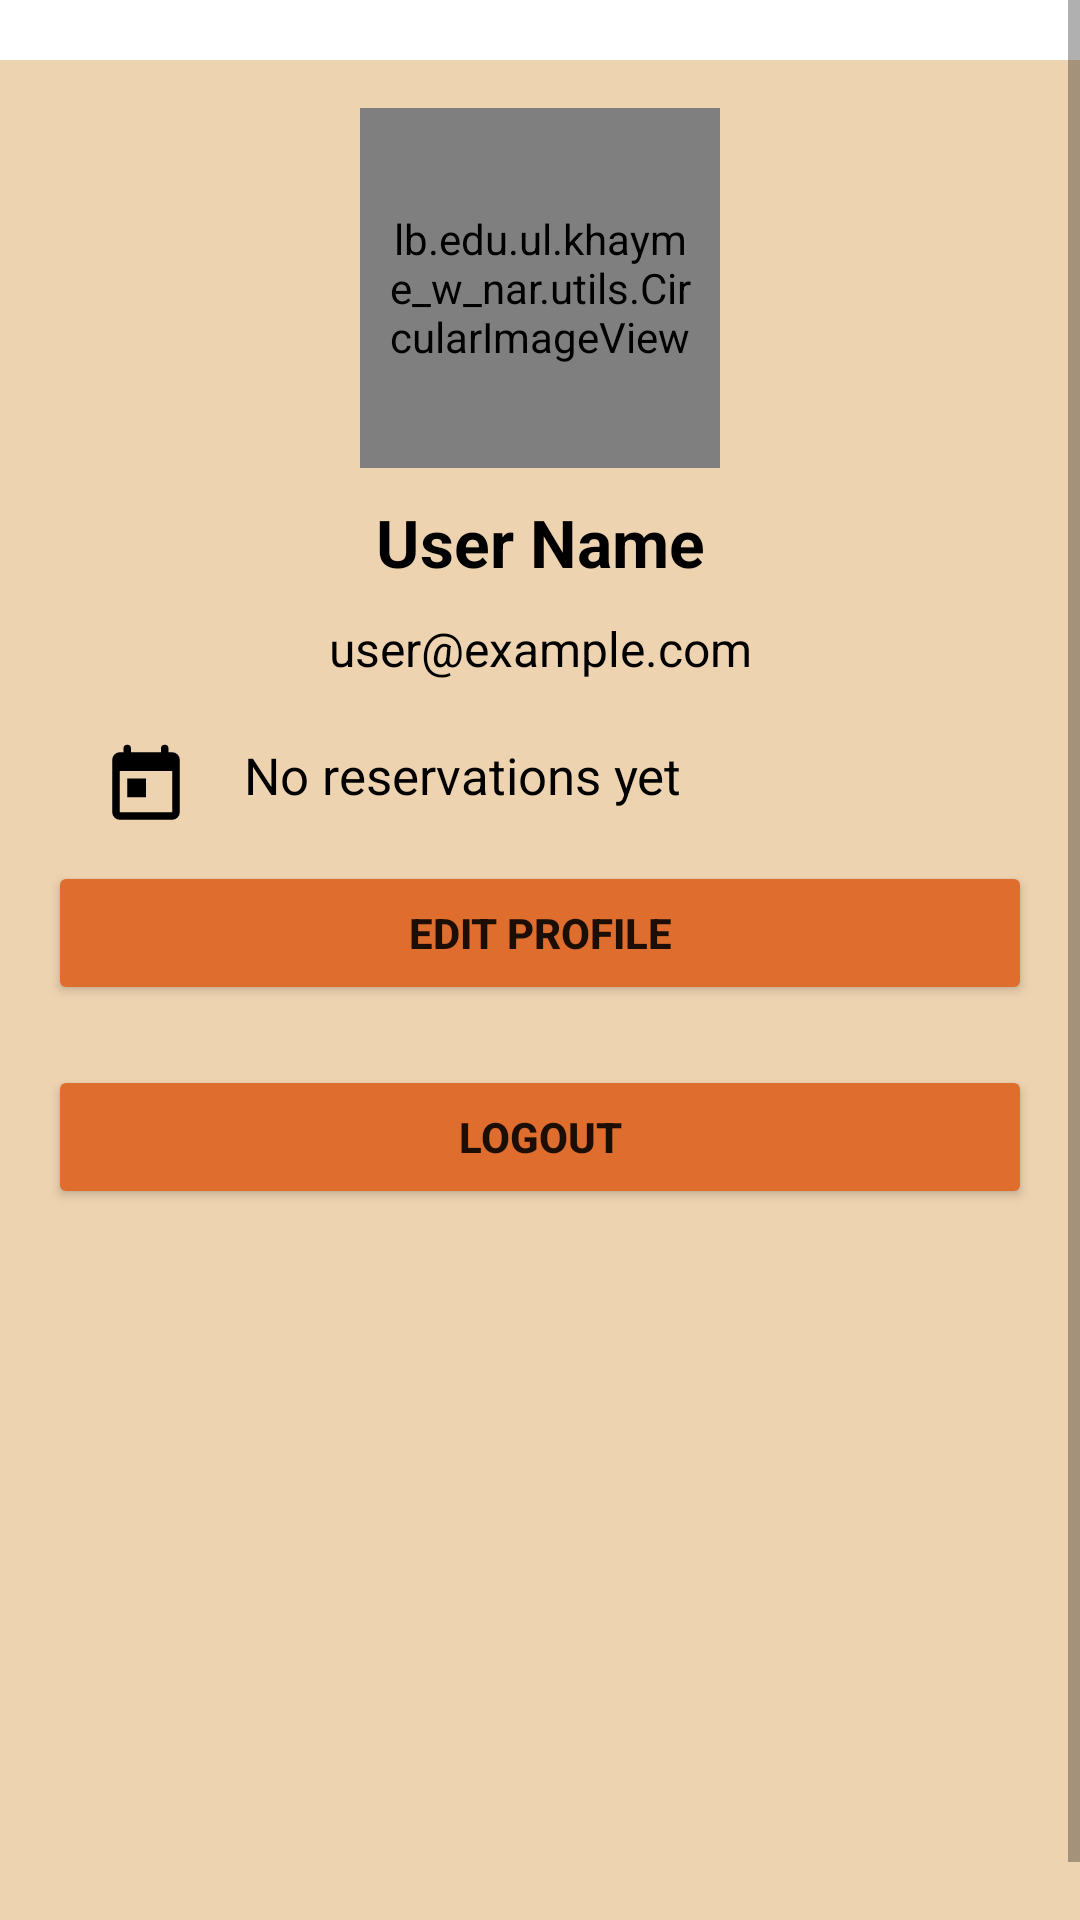

Icons on this 1080 × 1920 Android screen, each with its box as (x1, y1, x2, y2):
calendar: (112, 744, 180, 820)
